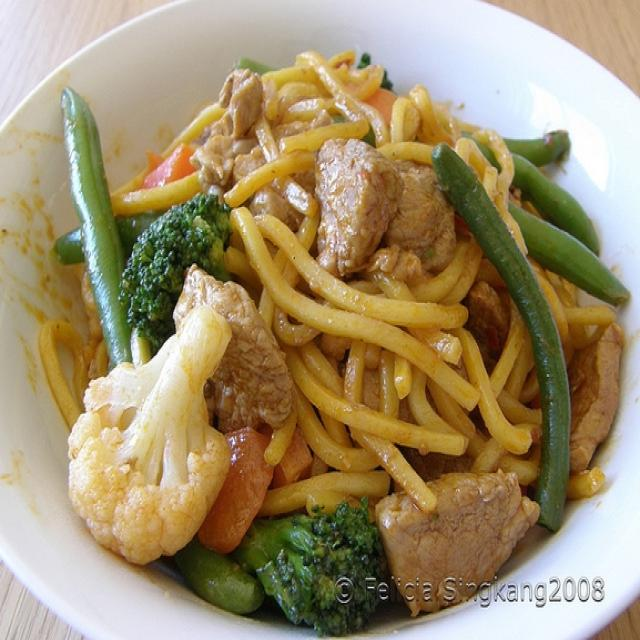蔬菜料理: (18, 15, 629, 628)
